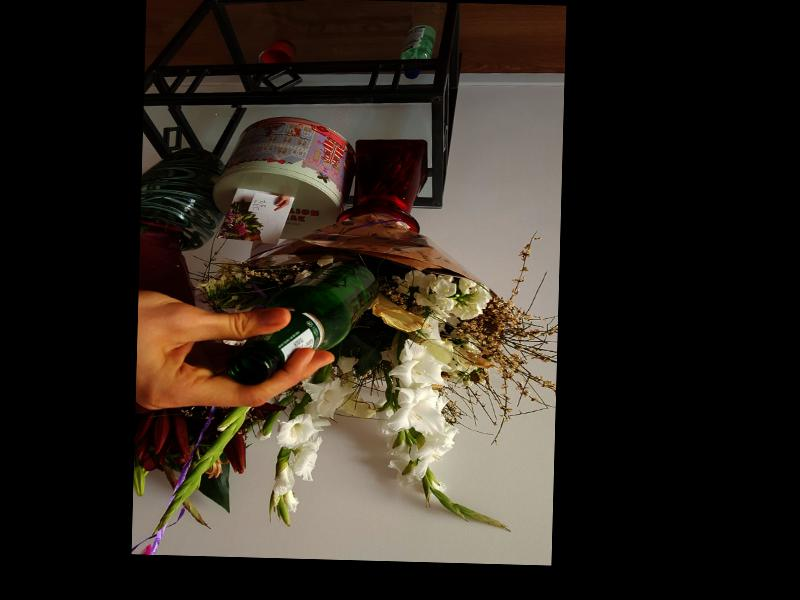Beer: (228, 259, 378, 388)
